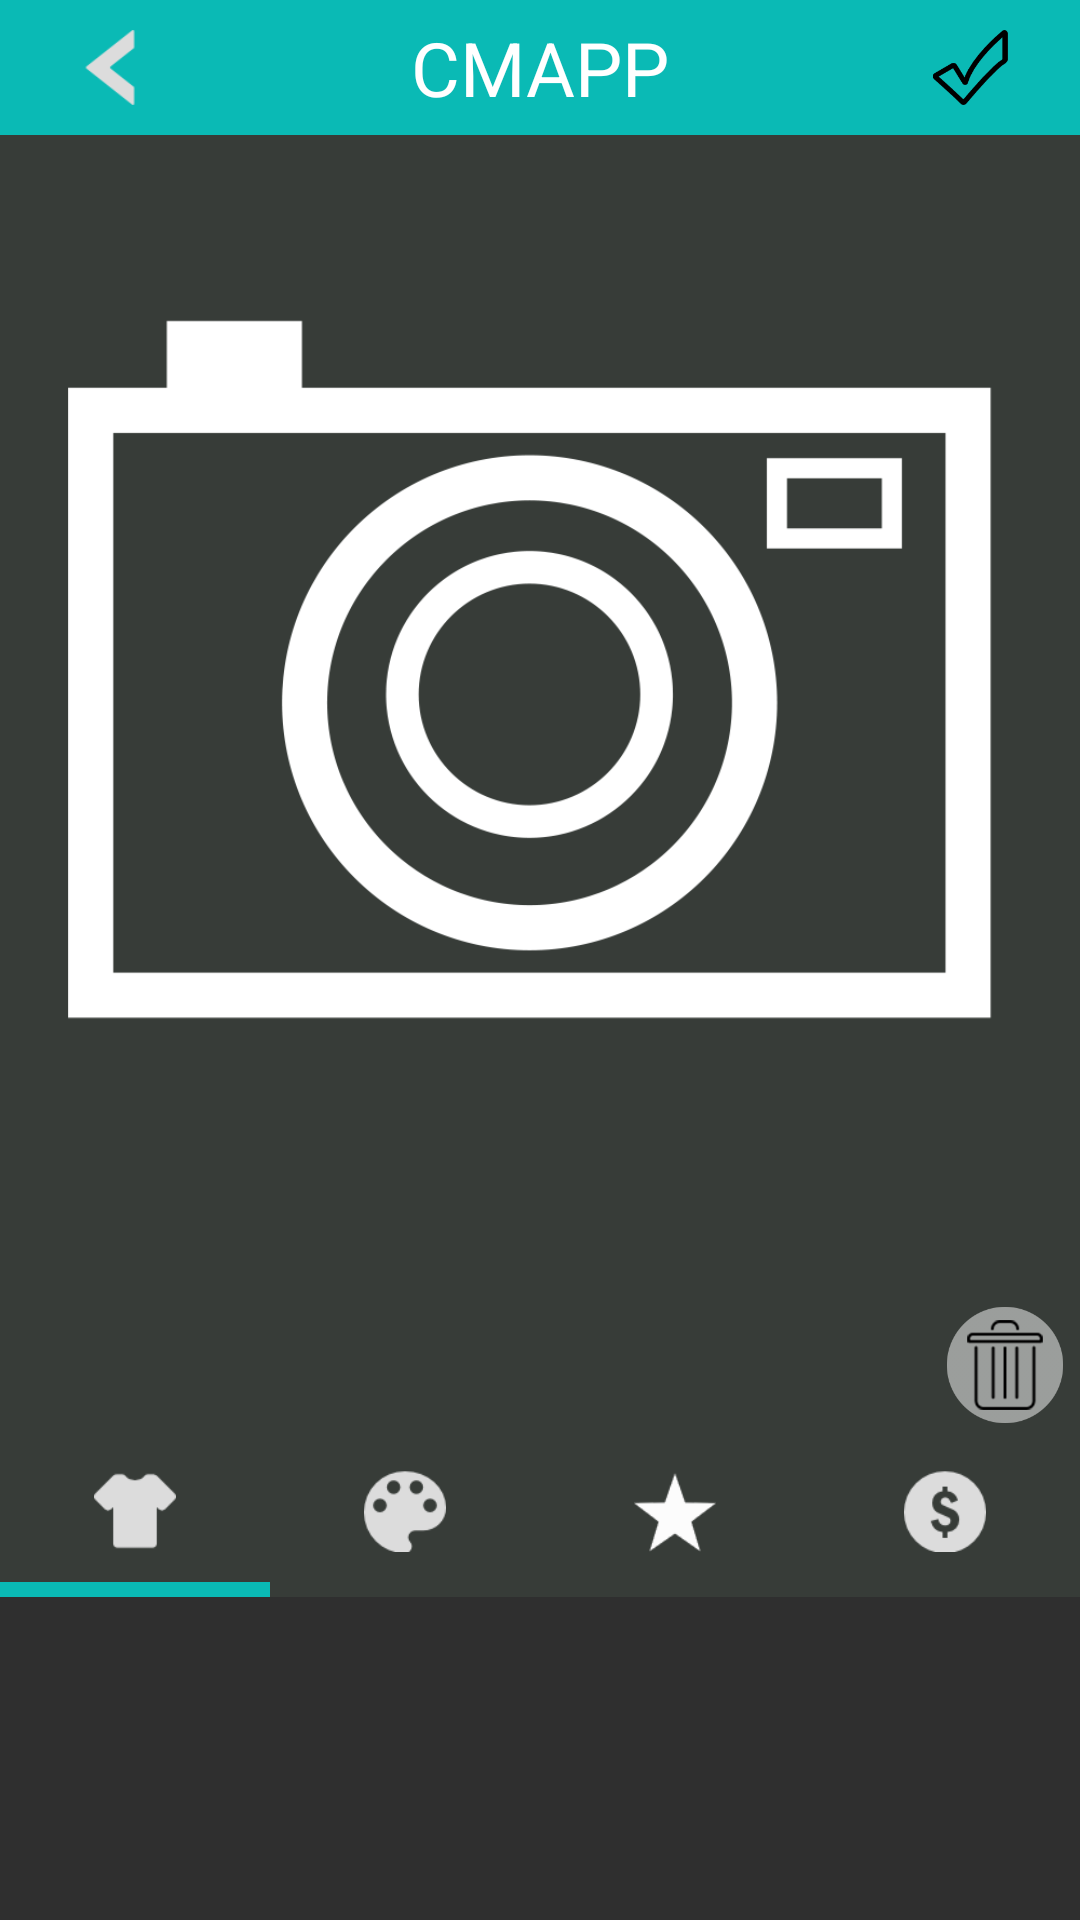

Icon bounding boxes for this 1080 × 1920 phone screenshot, format (x1, y1, x2, y2):
dollar: (904, 1471, 986, 1552)
previous: (85, 30, 135, 105)
trashcan: (947, 1307, 1063, 1423)
tshirttag: (94, 1474, 176, 1548)
